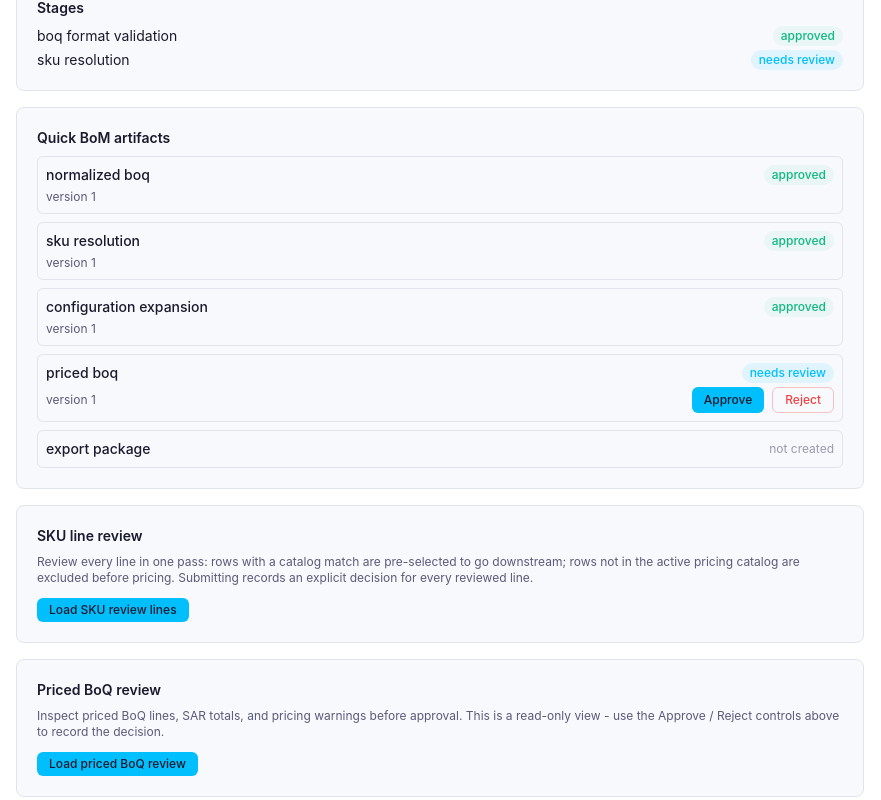
ProjectQuickBomPage - priced_boq review (specific priced-boq route) › refreshes the workspace from the ok response after a priced_boq approval
The image size is (881, 800).
(page scrolled)
Click the button with test id "approve-priced_boq" at (728, 400), box top-left (692, 387), bottom-right (764, 413)
(page scrolled)
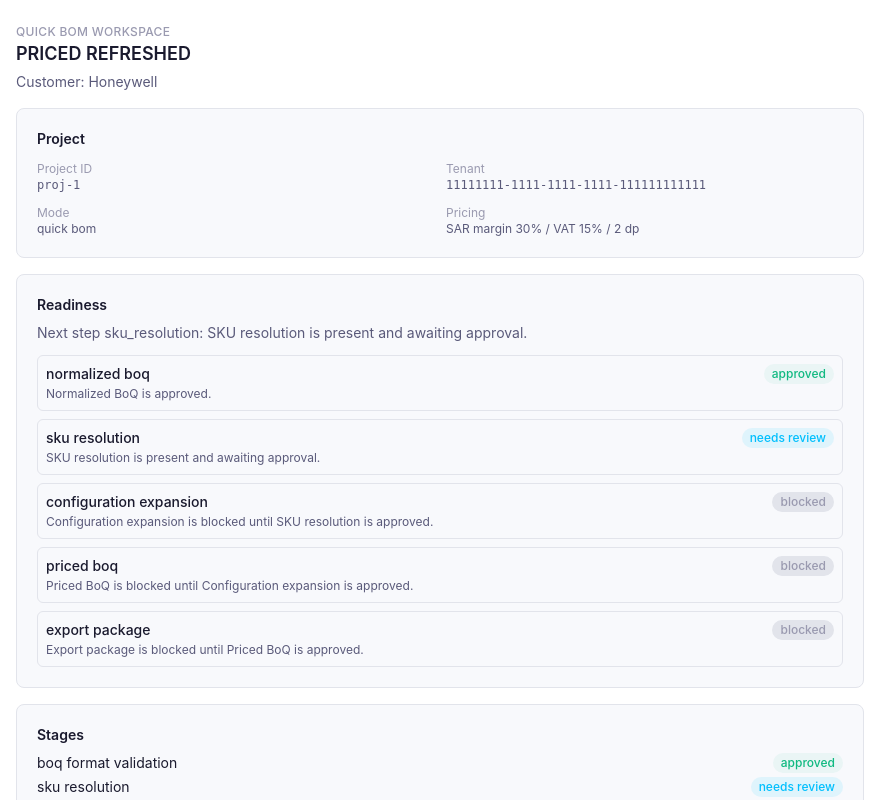
Check: the heading "PRICED REFRESHED" is shown, box top-left (16, 43), bottom-right (191, 64)
Check: the button with test id "approve-priced_boq" is gone
